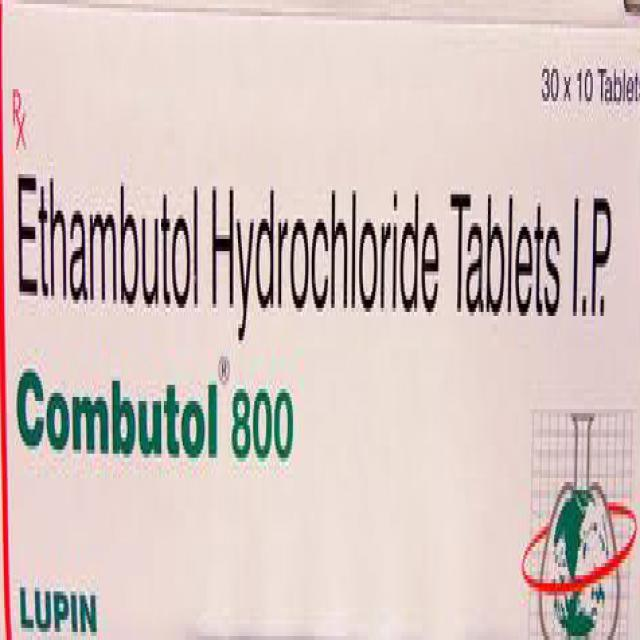drug-name: (10, 368, 316, 466)
